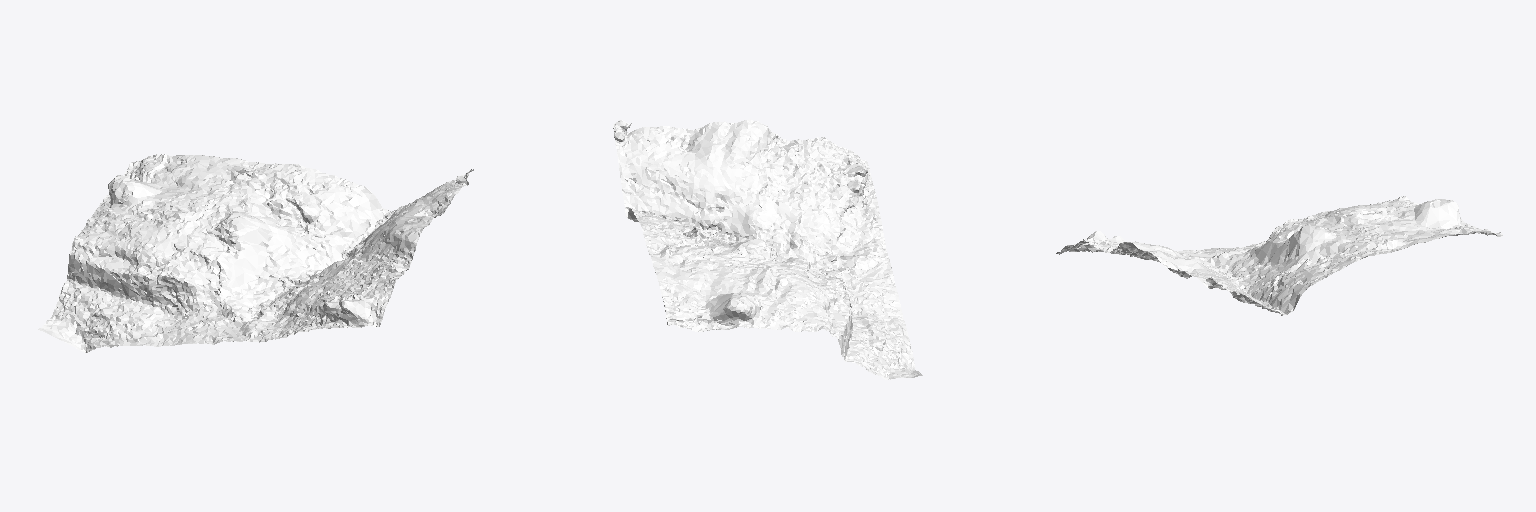
The model's file is tile_1_3.obj.
3 renders of one model, left to right at view 1: azimuth 30°, elevation 25°; view 2: azimuth 150°, elevation 25°; view 3: azimuth 270°, elevation 25°, orthographic.
Parts seen in each view (by area): view 1: texture_0; view 2: texture_0; view 3: texture_0.
Boxes of the visible parts, <box> form: texture_0: <box>38,154,473,352</box>; texture_0: <box>613,119,922,379</box>; texture_0: <box>1056,196,1502,315</box>.
Size of the model in its own units: 0.4195 by 0.1439 by 0.436.